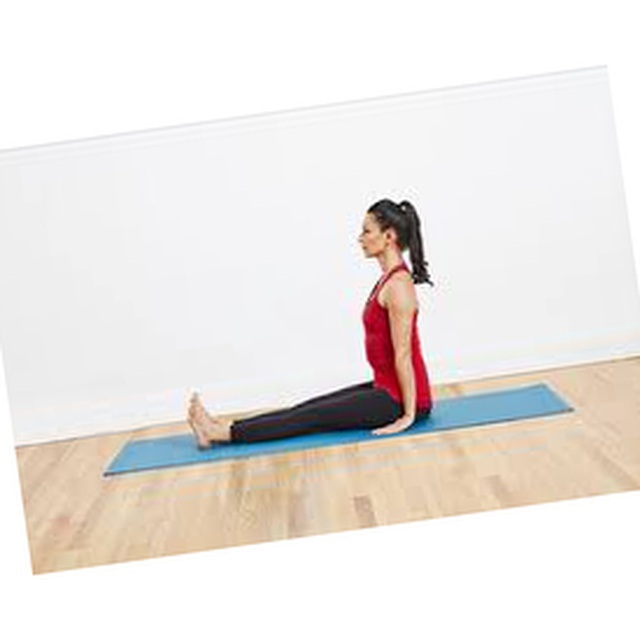Staff_Pose: (186, 197, 435, 451)
